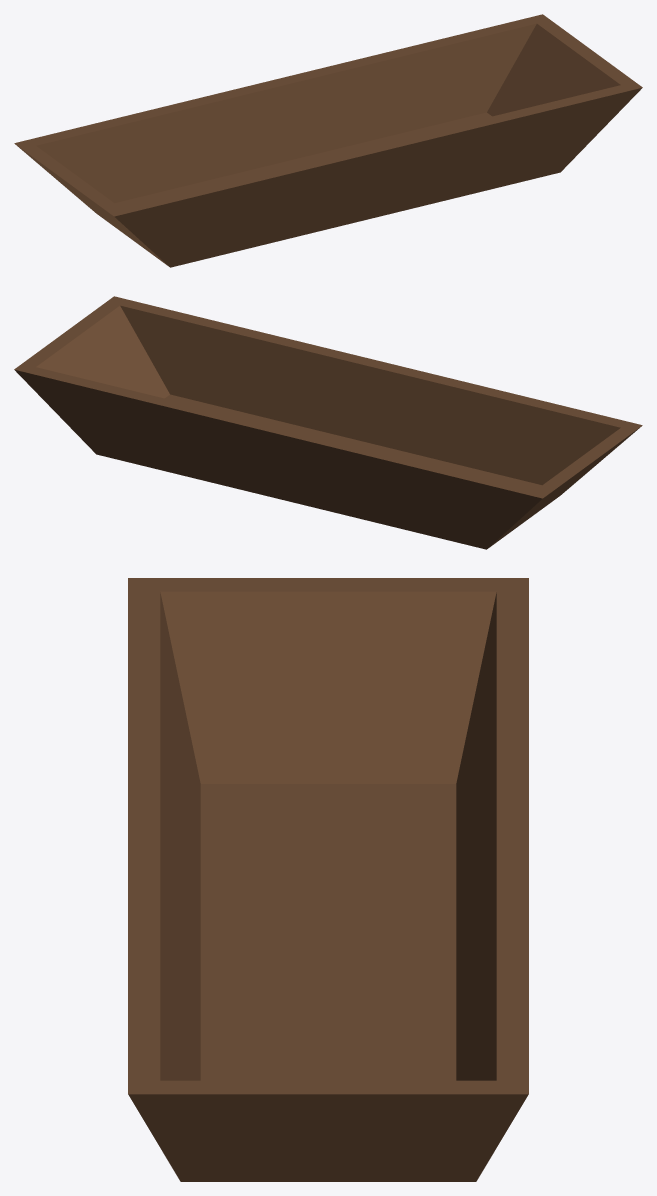
Rendered from Horse_tray_1_mat.fbx.
3 renders of one model, top to bottom at view 1: azimuth 30°, elevation 25°; view 2: azimuth 150°, elevation 25°; view 3: azimuth 270°, elevation 25°, orthographic. The views are drawn at different scales.
Visible parts, largest first — view 1: Horse_tray_1_mat; view 2: Horse_tray_1_mat; view 3: Horse_tray_1_mat.
Part boxes in pixels (bbox=[...]): Horse_tray_1_mat: bbox=[14, 14, 642, 267]; Horse_tray_1_mat: bbox=[14, 296, 642, 549]; Horse_tray_1_mat: bbox=[128, 578, 528, 1181].
Size of the model in its own units: 171 by 24.03 by 56.21.
